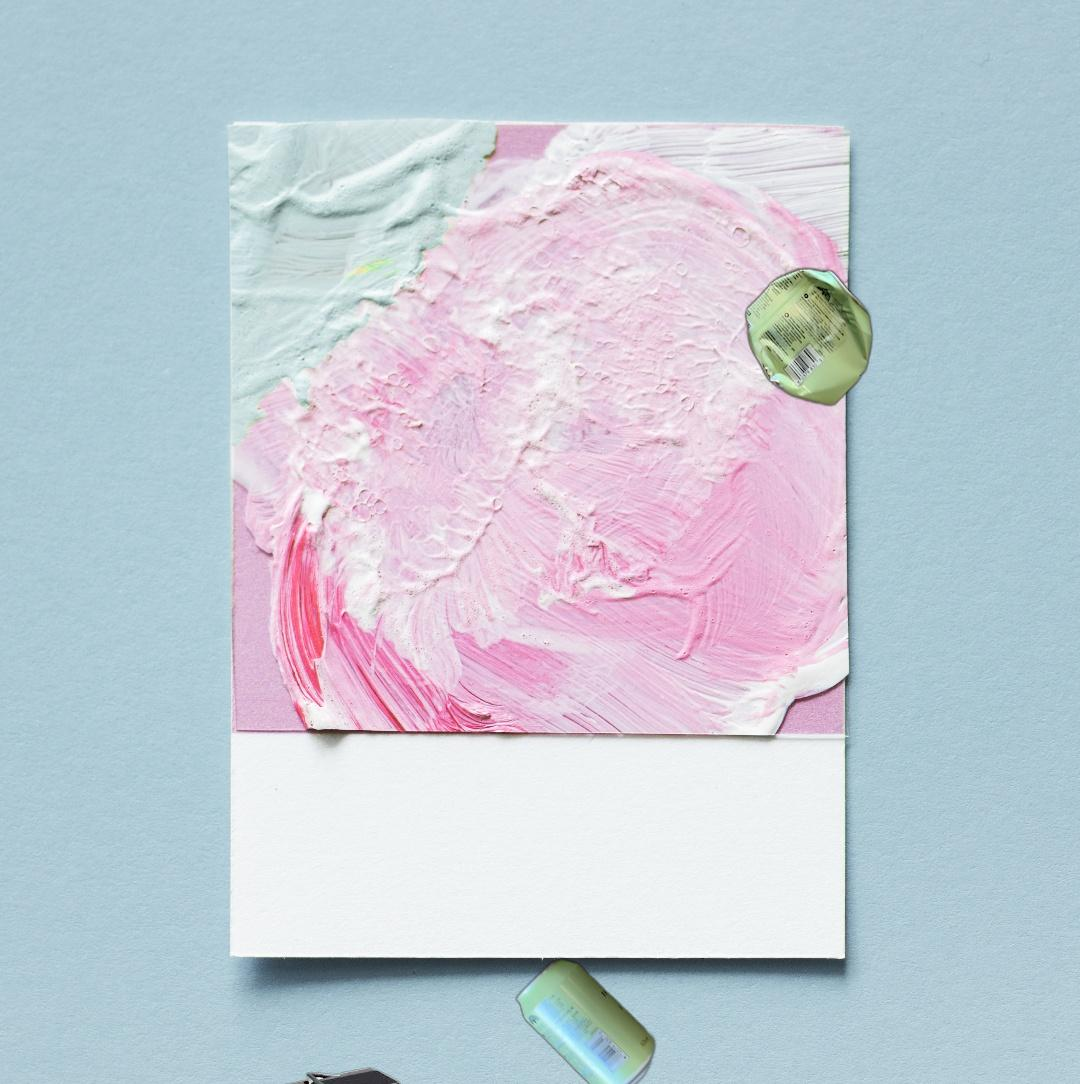battery: (256, 1065, 434, 1084)
metal-cans: (742, 262, 877, 412), (512, 952, 660, 1084)
